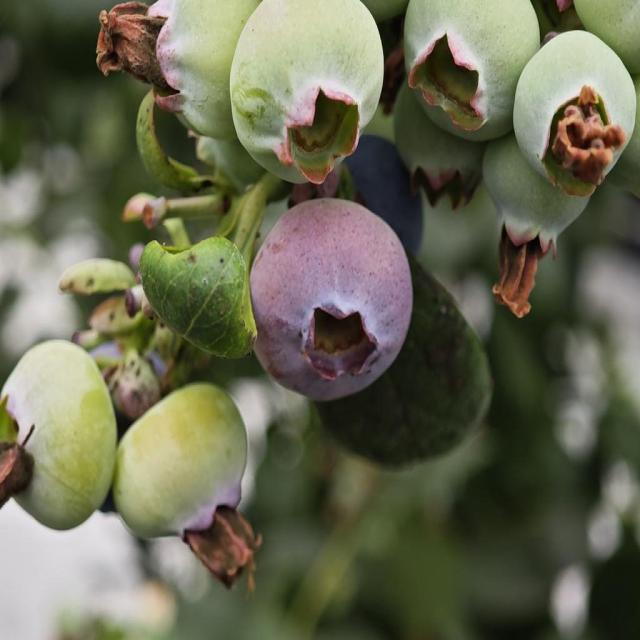Semi-RipeBlueBerry: (247, 195, 417, 406)
UnripeBlueBerry: (229, 0, 385, 183), (114, 384, 250, 553), (1, 338, 117, 532), (514, 28, 638, 194), (403, 0, 542, 142), (129, 0, 259, 140), (480, 144, 600, 255)
